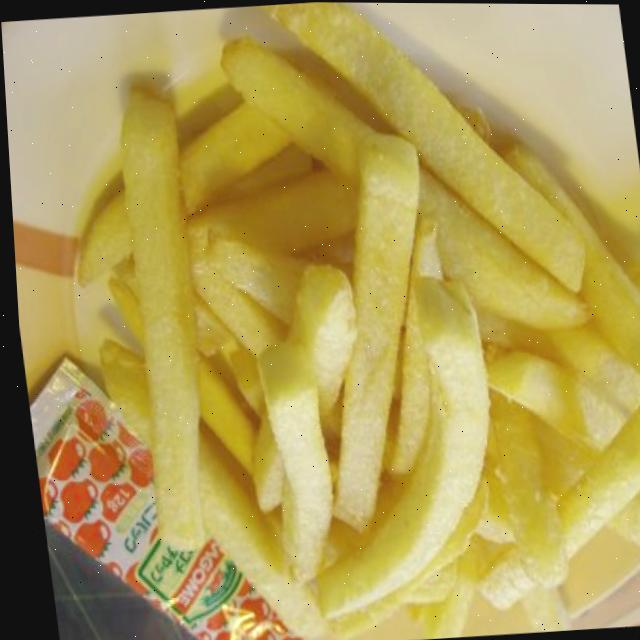炸货点心: (18, 0, 640, 640)
